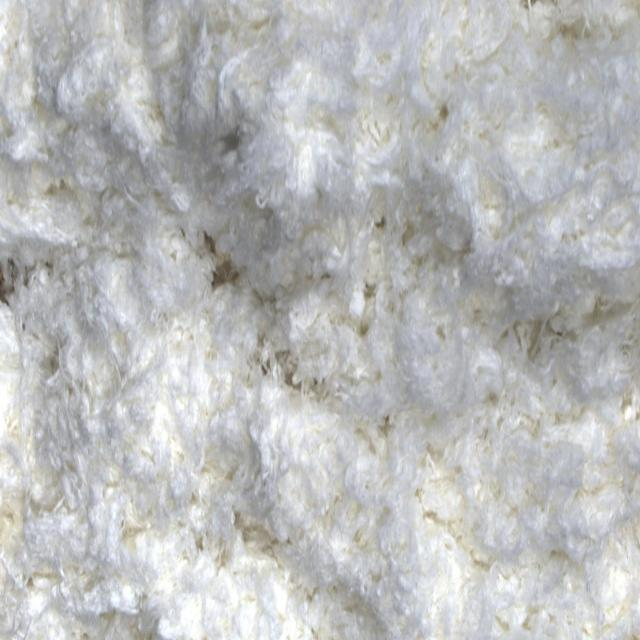dust: (199, 234, 245, 291), (0, 264, 30, 316)
